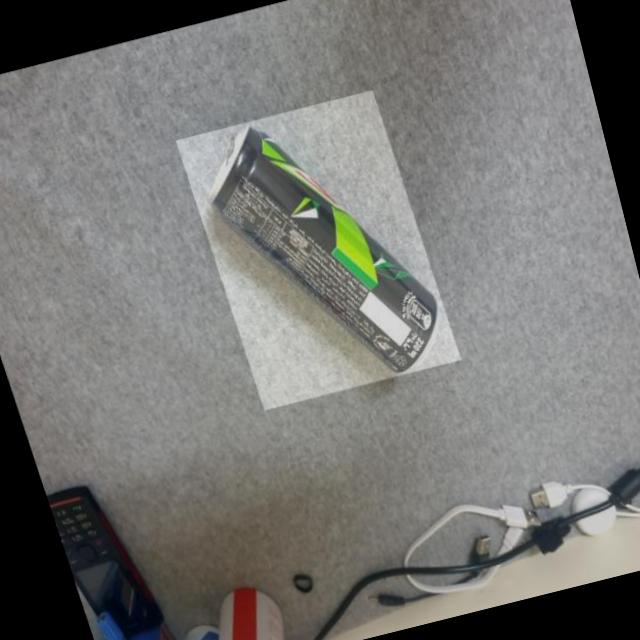trash: (173, 82, 454, 416)
